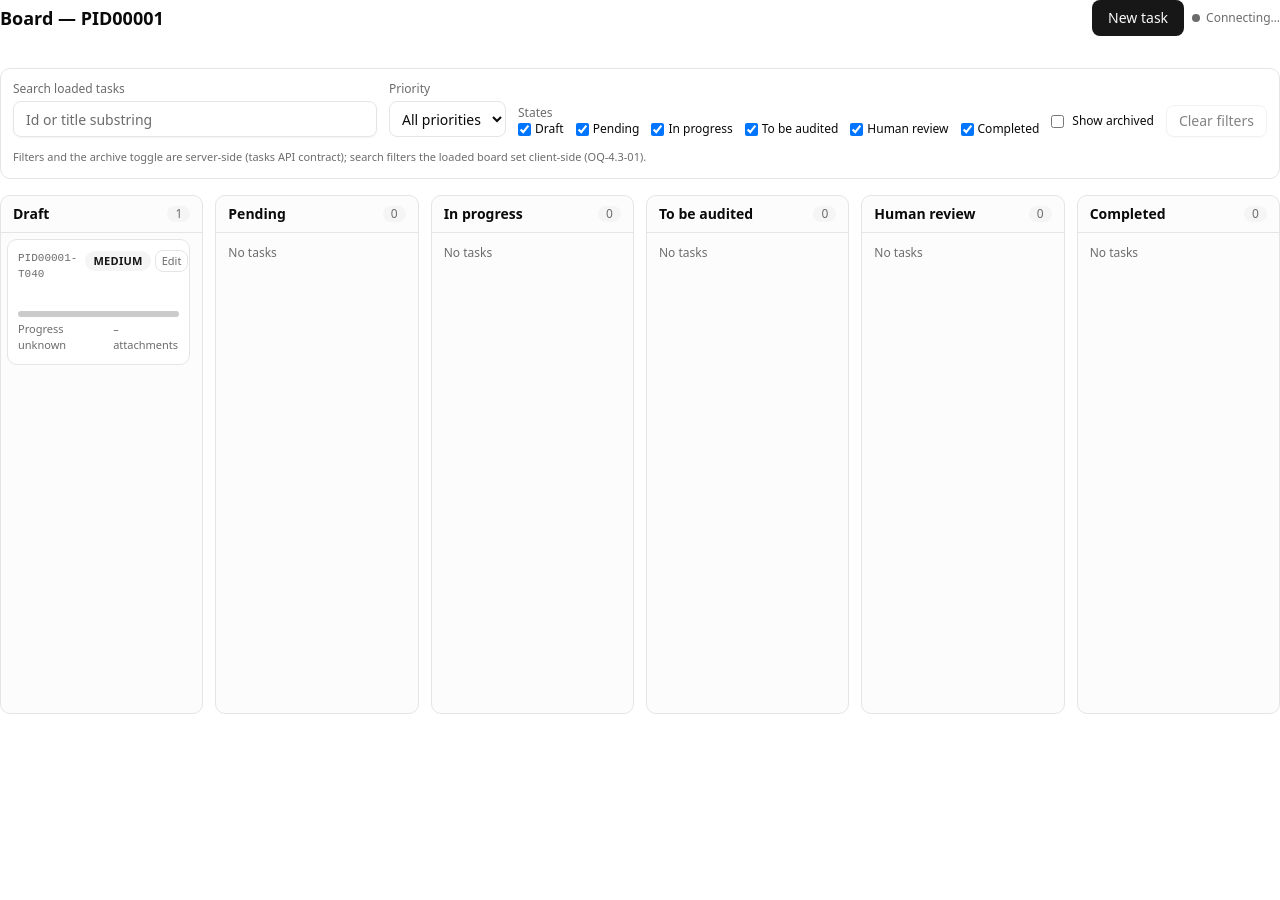
Scenario: publish-gating › surfaces the required-field and dependency guards before any send
Click the button with aria-label "Edit task PID00001-T040": (172, 261) [155,250,188,272]
(page scrolled)
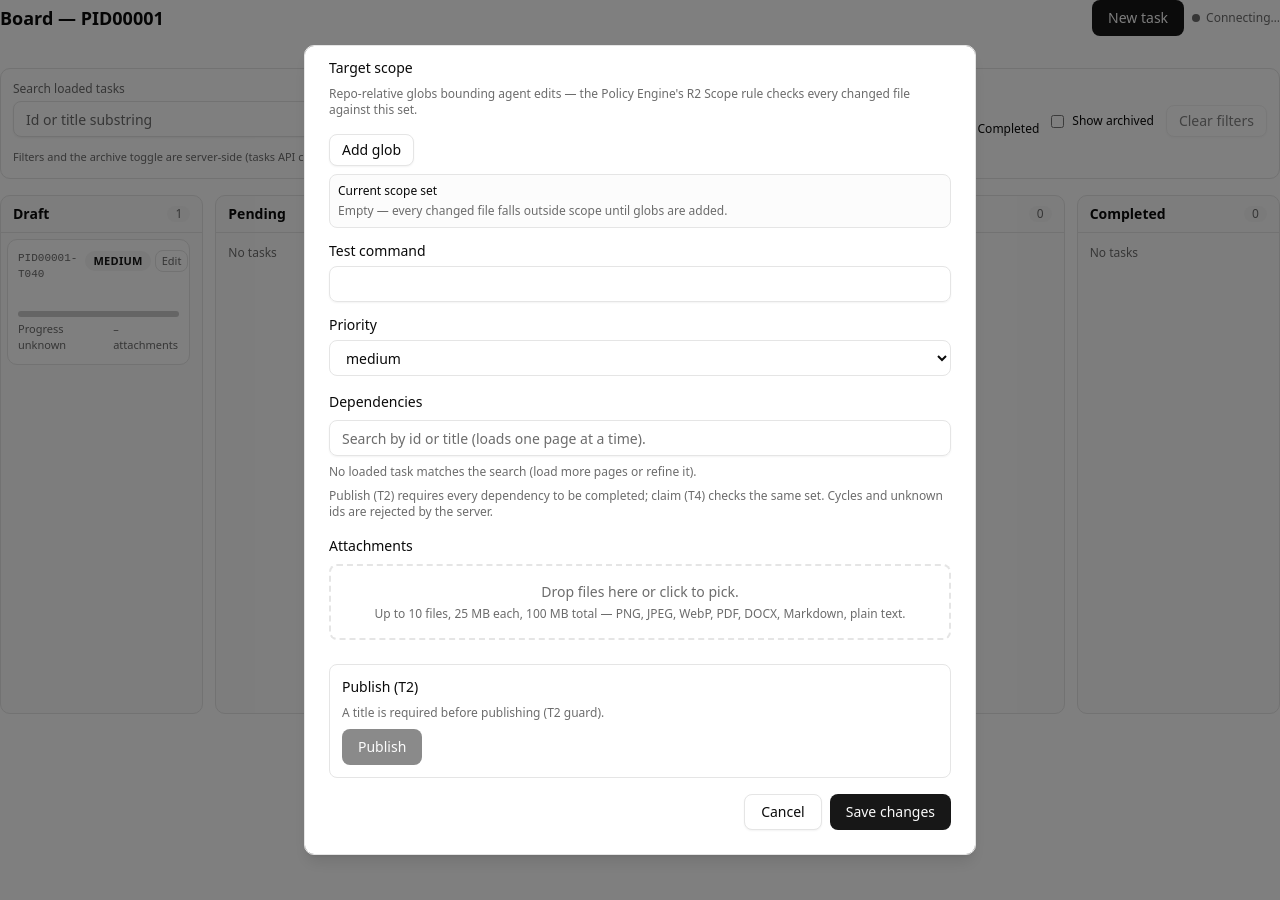
Expected: the element with test id "publish-action" is shown, [329,664,951,778]
Expected: the list item with test id "publish-blocker-missing_title" is shown, [342,704,604,721]
Expected: the button with test id "publish-button" is disabled, [342,729,422,765]
